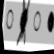correct: (44, 8, 54, 37)
not correct: (12, 0, 35, 49)
